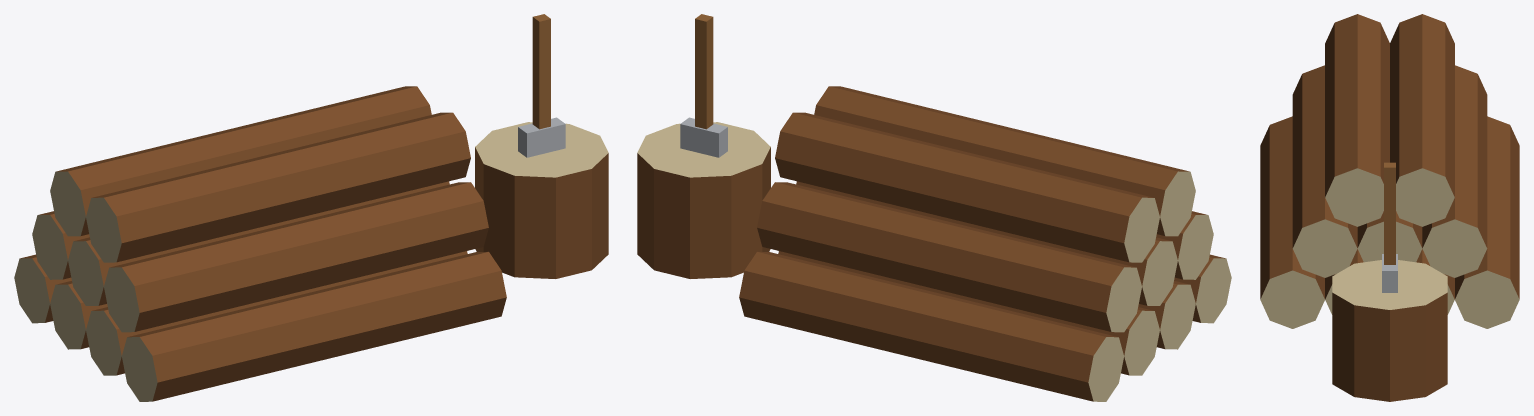
Rendered from camp_woodpile.glb.
The picture shows the model from 3 angles, left to right: view 1: azimuth 30°, elevation 25°; view 2: azimuth 150°, elevation 25°; view 3: azimuth 270°, elevation 25°; orthographic projection. The views are drawn at different scales.
Visible parts, largest first — view 1: camp_woodpile; view 2: camp_woodpile; view 3: camp_woodpile.
Boxes of the visible parts, <box> form: camp_woodpile: <box>14,14,608,401</box>; camp_woodpile: <box>637,14,1231,401</box>; camp_woodpile: <box>1260,14,1519,401</box>.
Bounding box in the file's own units: 2.65 × 1.15 × 1.28.
1 material, 1 textured.
